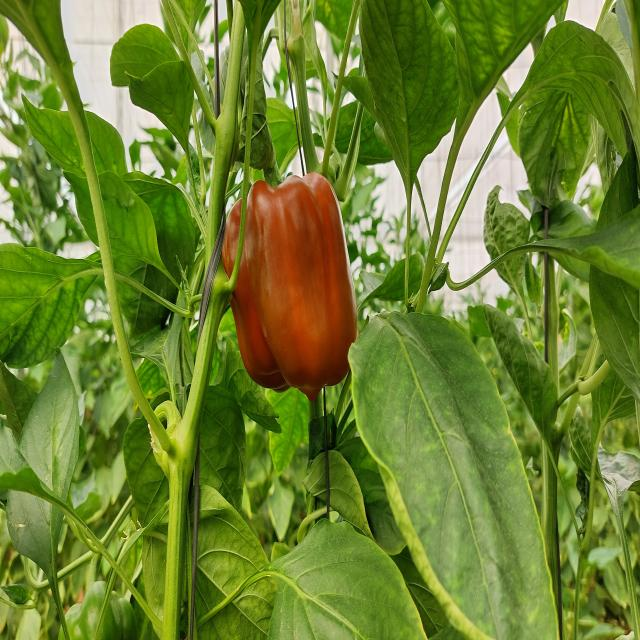Red-Ready-to-Harvest: (226, 177, 366, 408)
